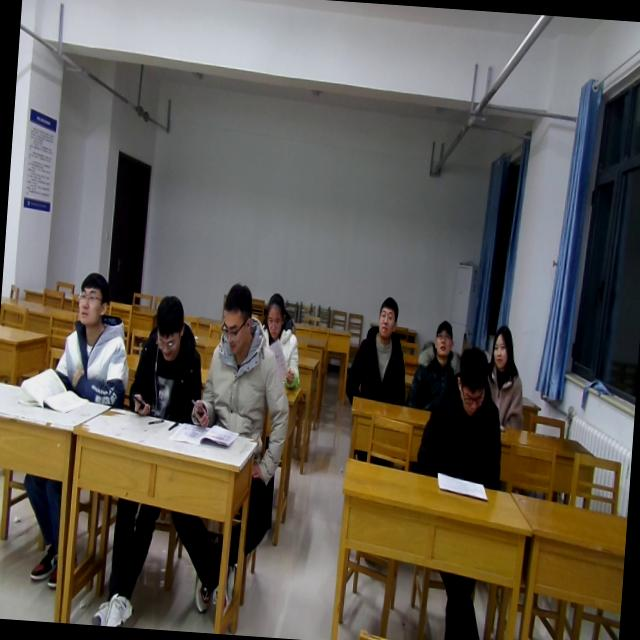down: (215, 278, 257, 358), (452, 344, 492, 422), (148, 292, 186, 366), (260, 285, 288, 340)
lookup: (72, 265, 115, 328), (372, 293, 402, 347), (488, 322, 518, 376), (428, 314, 458, 366)
sit: (186, 281, 297, 440), (413, 342, 510, 489), (50, 266, 134, 408), (124, 292, 208, 422), (342, 293, 413, 409), (476, 322, 532, 428), (406, 316, 464, 412), (254, 290, 305, 391)
